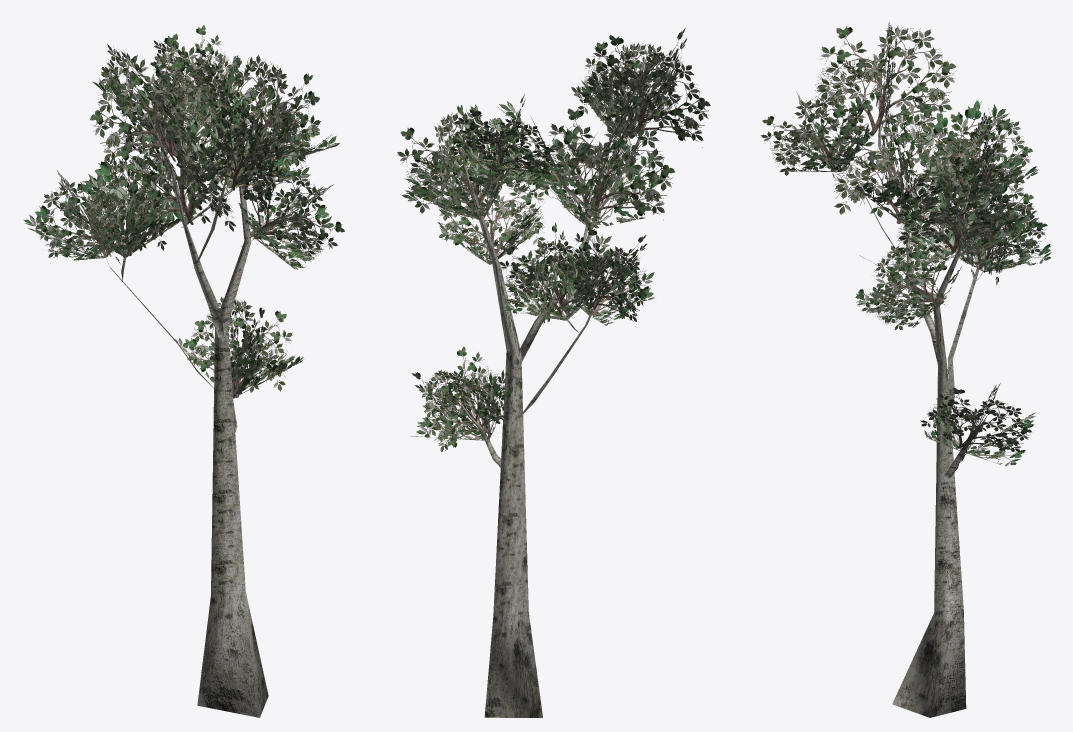
File: decd_whitebirchtreeleaves_a2_l1.fbx
The picture shows the model from 3 angles, left to right: view 1: azimuth 30°, elevation 25°; view 2: azimuth 150°, elevation 25°; view 3: azimuth 270°, elevation 25°; orthographic projection. The views are drawn at different scales.
Parts seen in each view (by area): view 1: mesh_node; view 2: mesh_node; view 3: mesh_node.
Part boxes in pixels (left/top/right/bottom): mesh_node: left=23, top=25, right=344, bottom=717; mesh_node: left=397, top=28, right=710, bottom=717; mesh_node: left=760, top=22, right=1051, bottom=717.
Size of the model in its own units: 7.8 by 17.84 by 7.85.
